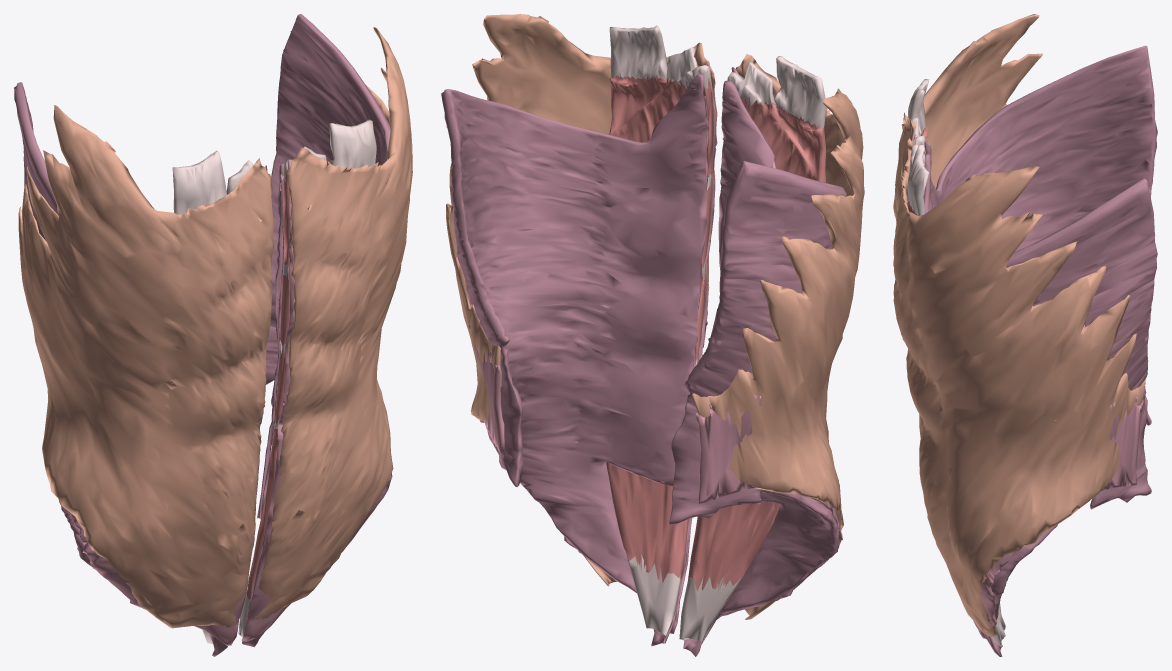
The model's file is decimate-25.glb.
3 views of the same model, side by side, from view 1: azimuth 30°, elevation 25°; view 2: azimuth 150°, elevation 25°; view 3: azimuth 270°, elevation 25° (orthographic). The views are drawn at different scales.
Visible parts, largest first — view 1: external_r, external_l, transversus_l, rectus_l, internal_l, rectus_r, transversus_r, internal_r; view 2: transversus_l, transversus_r, external_r, rectus_l, rectus_r, external_l, internal_r, internal_l; view 3: external_l, transversus_r, transversus_l, external_r, internal_l, rectus_l, rectus_r.
Boxes of the visible parts, x1=… form: external_r: x1=18, y1=105, x2=273, y2=628; external_l: x1=251, y1=27, x2=412, y2=619; transversus_l: x1=242, y1=14, x2=390, y2=647; rectus_l: x1=238, y1=119, x2=376, y2=637; internal_l: x1=241, y1=159, x2=392, y2=641; rectus_r: x1=172, y1=151, x2=252, y2=643; transversus_r: x1=14, y1=82, x2=227, y2=656; internal_r: x1=49, y1=165, x2=273, y2=645; transversus_l: x1=441, y1=74, x2=707, y2=646; transversus_r: x1=669, y1=80, x2=846, y2=656; external_r: x1=691, y1=54, x2=864, y2=619; rectus_l: x1=606, y1=25, x2=713, y2=635; rectus_r: x1=679, y1=56, x2=825, y2=641; external_l: x1=446, y1=14, x2=717, y2=586; internal_r: x1=696, y1=67, x2=842, y2=619; internal_l: x1=468, y1=61, x2=717, y2=633; external_l: x1=893, y1=138, x2=1145, y2=637; transversus_r: x1=924, y1=45, x2=1157, y2=425; transversus_l: x1=923, y1=153, x2=1157, y2=656; external_r: x1=893, y1=14, x2=1042, y2=438; internal_l: x1=923, y1=166, x2=1143, y2=639; rectus_l: x1=906, y1=144, x2=1005, y2=645; rectus_r: x1=907, y1=79, x2=1005, y2=630.
Size of the model in its own units: 0.2819 by 0.4385 by 0.1886.
